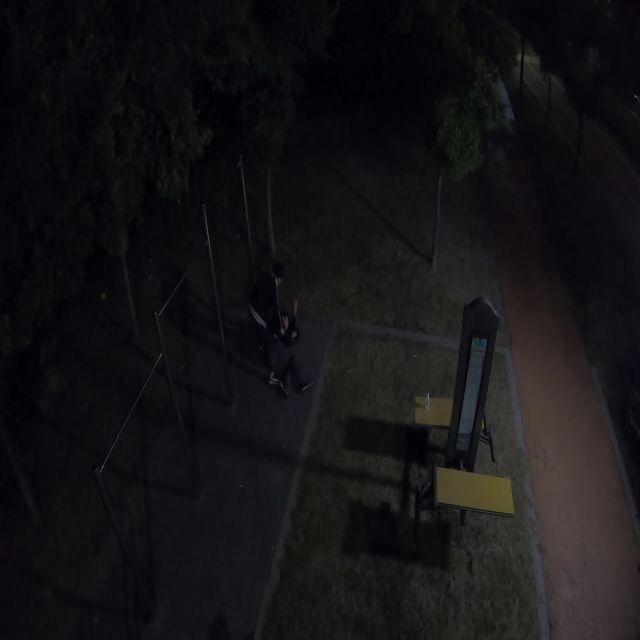fight: (242, 305, 307, 396)
